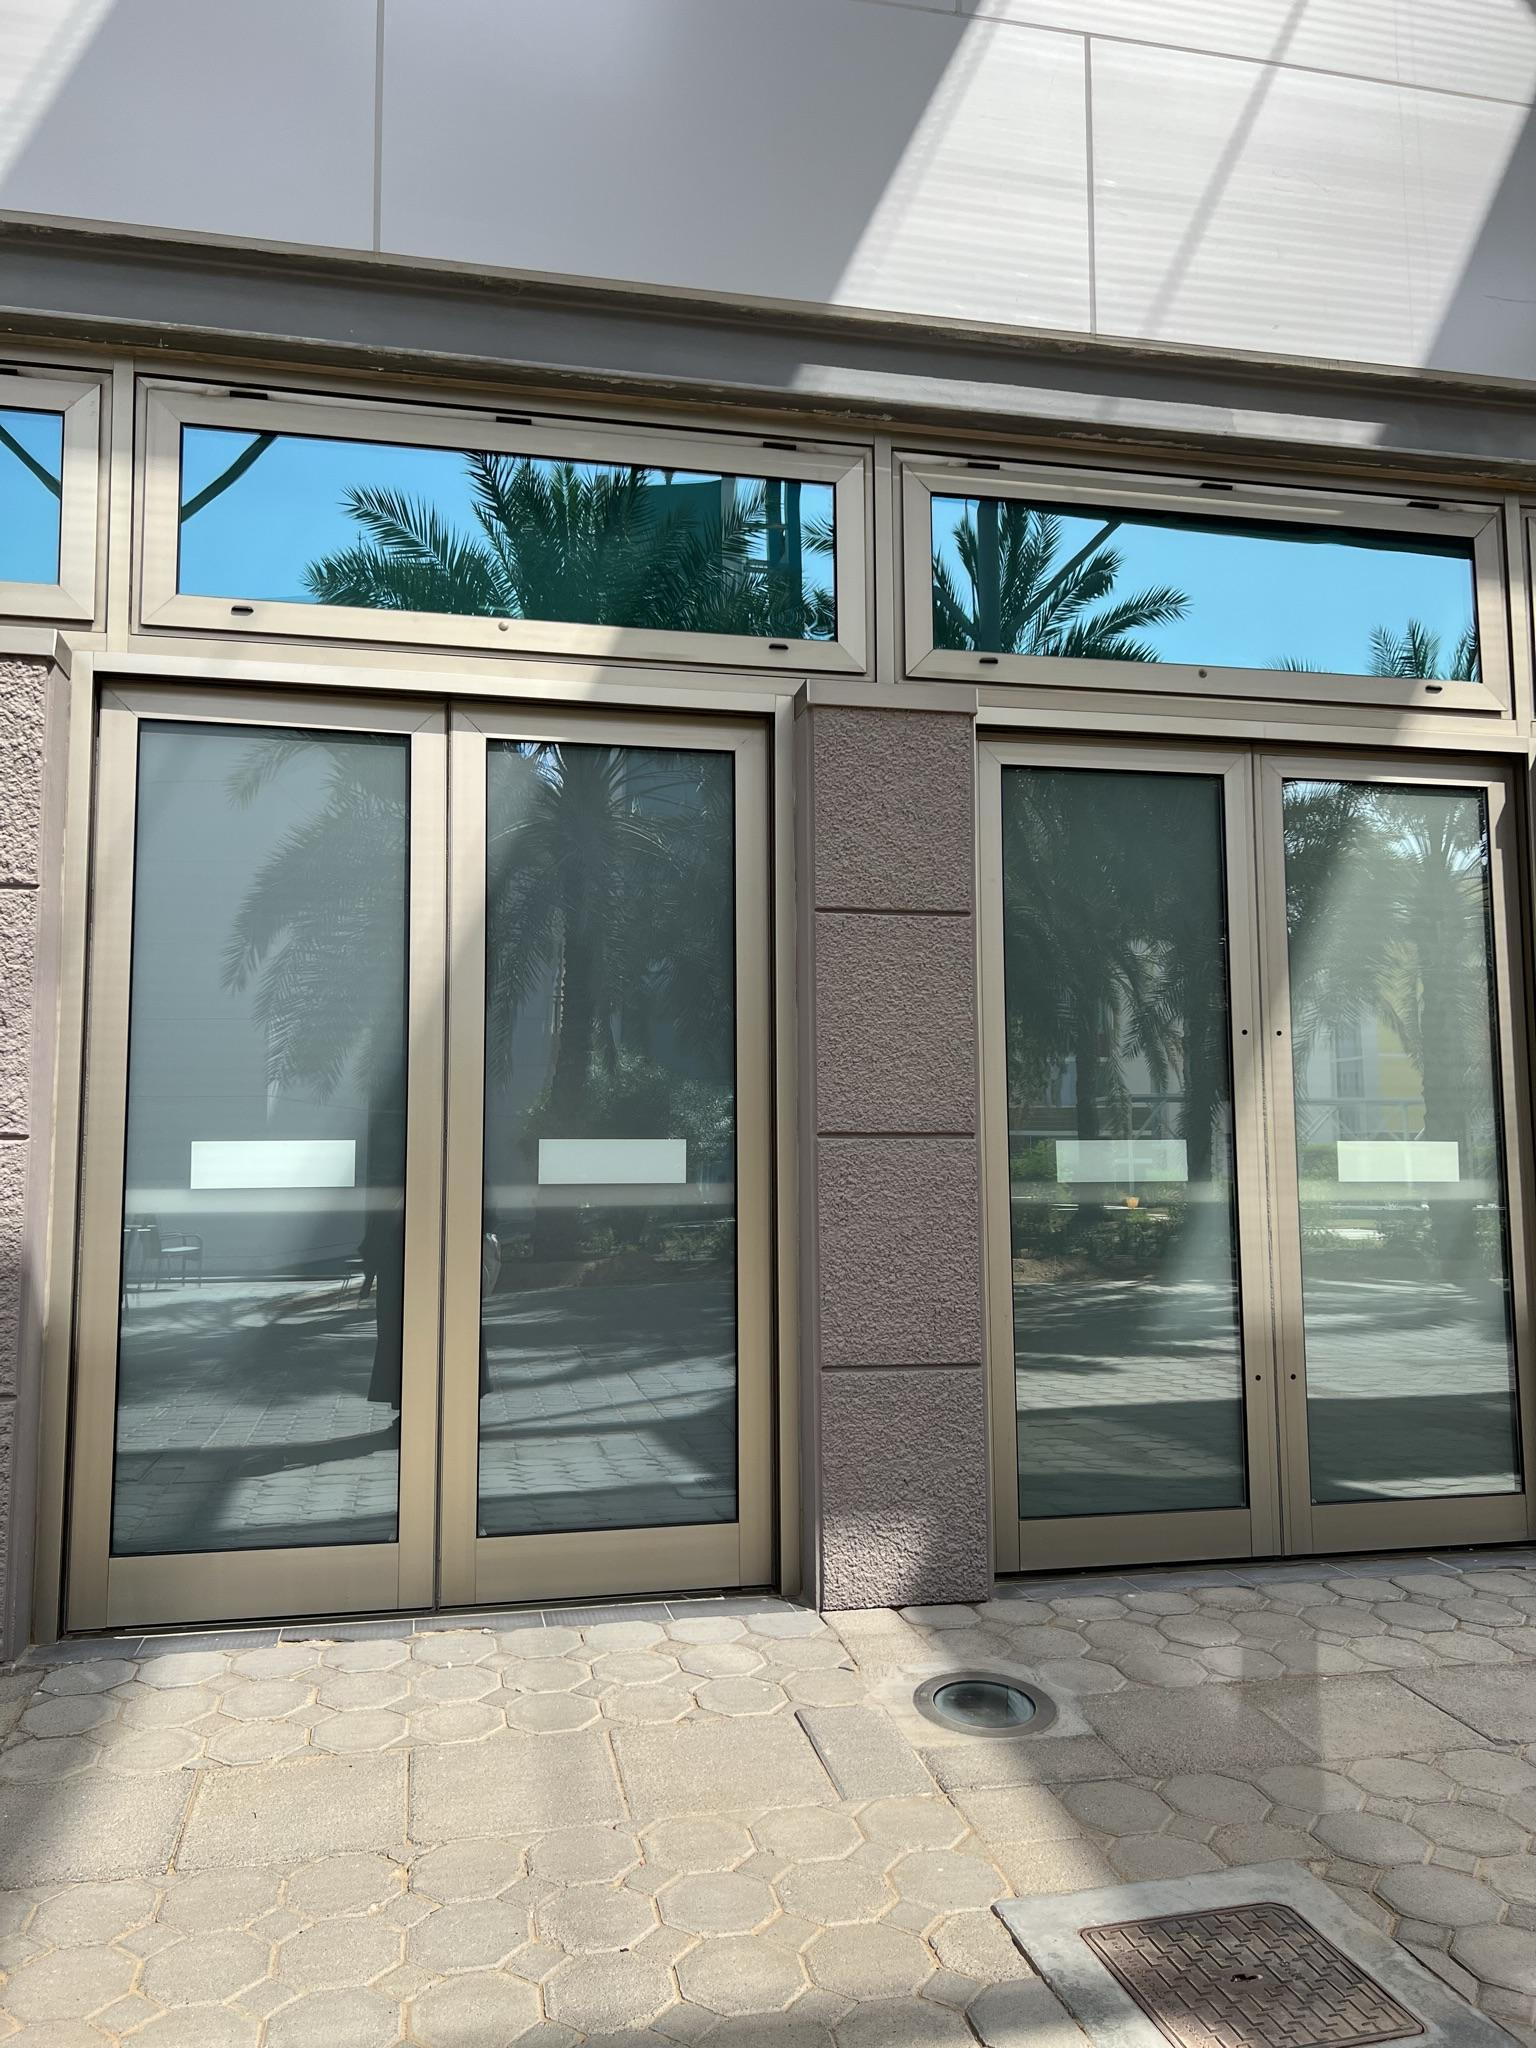door: (68, 681, 434, 1601), (444, 701, 753, 1590), (1242, 766, 1509, 1566), (1007, 747, 1234, 1574)
